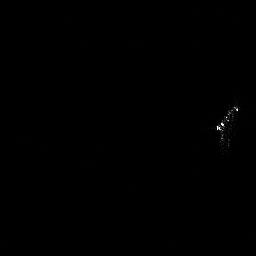ship: (215, 104, 239, 152)
